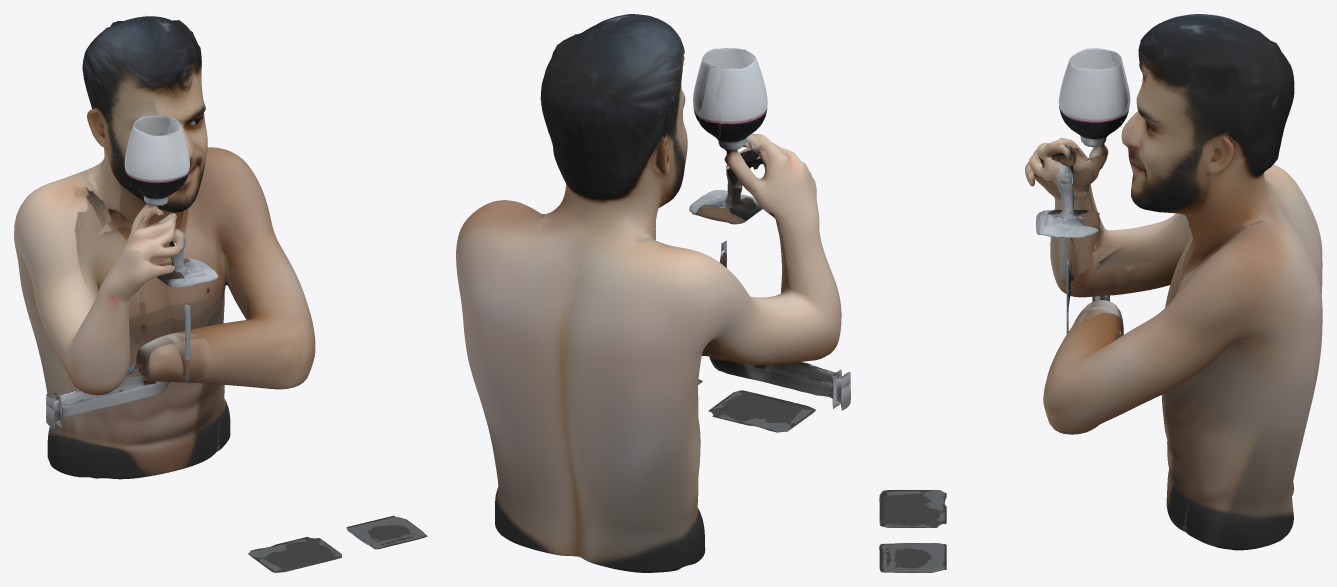
The model's file is luir.glb.
3 renders of one model, left to right at view 1: azimuth 30°, elevation 25°; view 2: azimuth 150°, elevation 25°; view 3: azimuth 270°, elevation 25°, orthographic. The views are drawn at different scales.
Parts seen in each view (by area): view 1: model; view 2: model; view 3: model.
Boxes of the visible parts, x1,y1,x2,y2 form: model: (14, 14, 427, 572); model: (456, 14, 850, 572); model: (879, 14, 1322, 572).
Size of the model in its own units: 1.27 by 1.9 by 1.59.
Materials: 1 (1 with a texture image).
